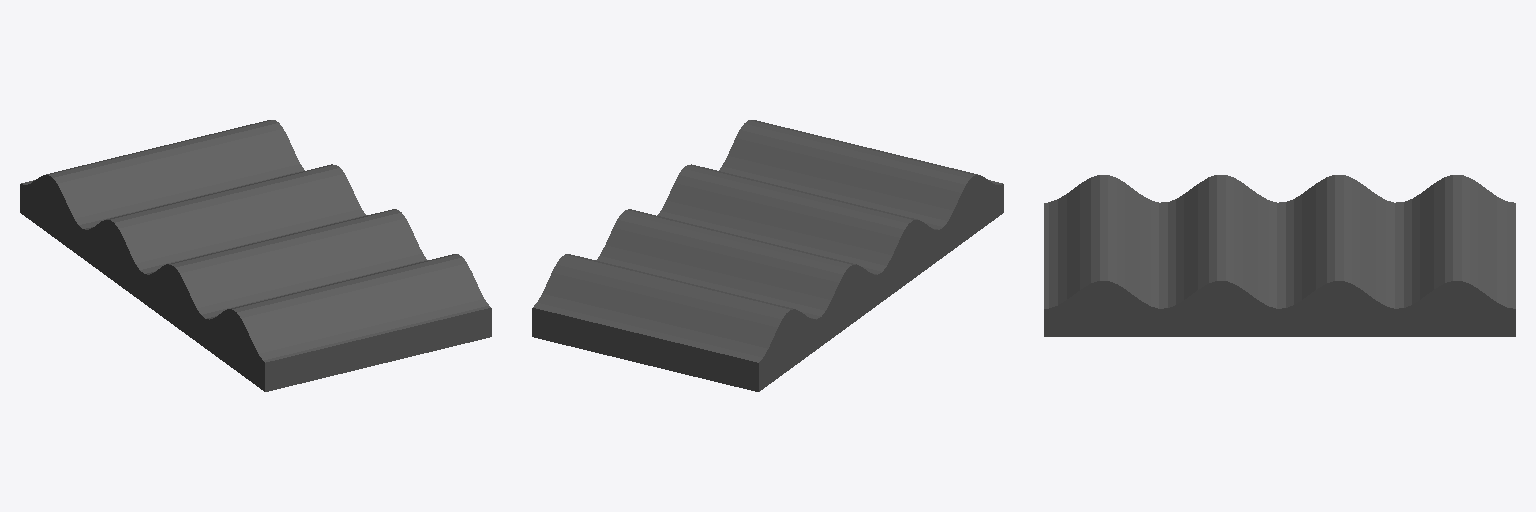
The robot description file, URDF, robot "sinewave_surface":
<?xml version="1.0" encoding="utf-8"?>
<!-- =================================================================================== -->
<!-- |    This document was autogenerated by xacro from si￩newave_surface.xacro         | -->
<!-- |    EDITING THIS FILE BY HAND IS NOT RECOMMENDED                                 | -->
<!-- =================================================================================== -->
<robot name="sinewave_surface">
  <link name="base_link">
    <visual>
      <origin rpy="0 0 0" xyz="-0.04 -0.075 0"/>
      <geometry>
        <mesh filename="package://contactsensing/meshes/sinewave_cover_lowscale.STL"/>
      </geometry>
      <material name="grey">
        <color rgba="0.4 0.4 0.4 10.0"/>
      </material>
    </visual>
  </link>
</robot>

--- Render facts (derived) ---
The picture shows the robot from 3 angles, left to right: view 1: azimuth 30°, elevation 25°; view 2: azimuth 150°, elevation 25°; view 3: azimuth 270°, elevation 25°; orthographic projection.
Model sinewave_surface with 1 links and 0 joints (none), rooted at base_link, posed every joint at zero.
Links seen in each view (by area): view 1: base_link; view 2: base_link; view 3: base_link.
Boxes of the visible links, x1,y1,x2,y2 form: base_link: [20, 120, 491, 391]; base_link: [532, 120, 1003, 391]; base_link: [1044, 175, 1515, 336].
Size in the robot's own frame: 0.08 by 0.15 by 0.0199 metres.
Meshes: 1 distinct files referenced, 1 mesh visuals loaded (1 binary STL).